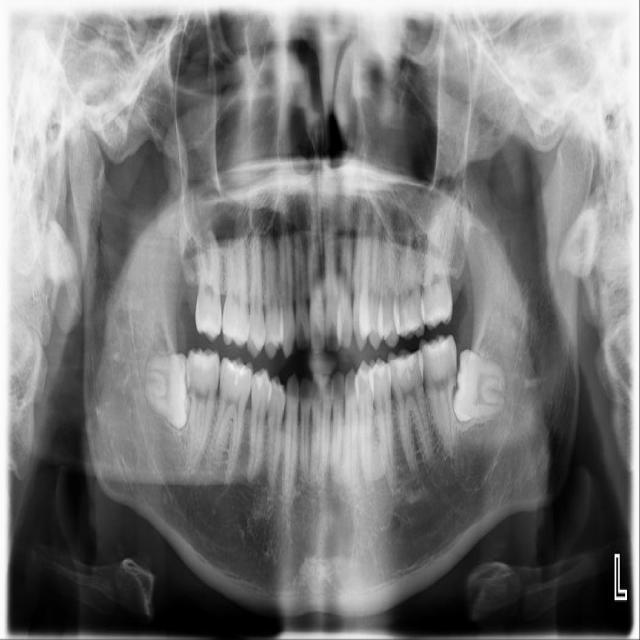impacted tooth: (454, 350, 506, 420), (140, 353, 186, 430)
